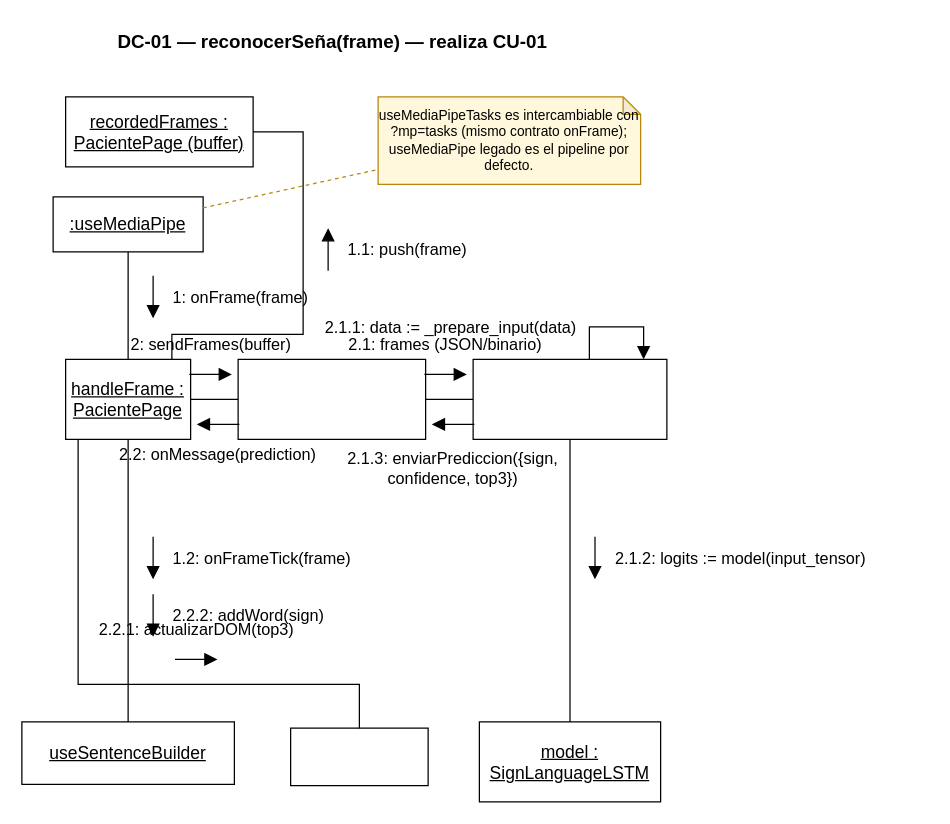
This 950x824 diagram has some shape labels left out. Here are the shapes that lost their labels. From the top down, the centre of each, then its label:
the point at 331,398: useSignWebSocket
the point at 569,398: websocket_predict : app.py
the point at 358,756: TopPredictions
